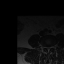CCS_normal: (47, 45, 49, 54)
LFS_stenosis: (51, 45, 52, 49)
LLS_normal: (49, 45, 51, 49)
RFS_stenosis: (44, 45, 46, 49)
RLS_stenosis: (46, 45, 48, 50)
